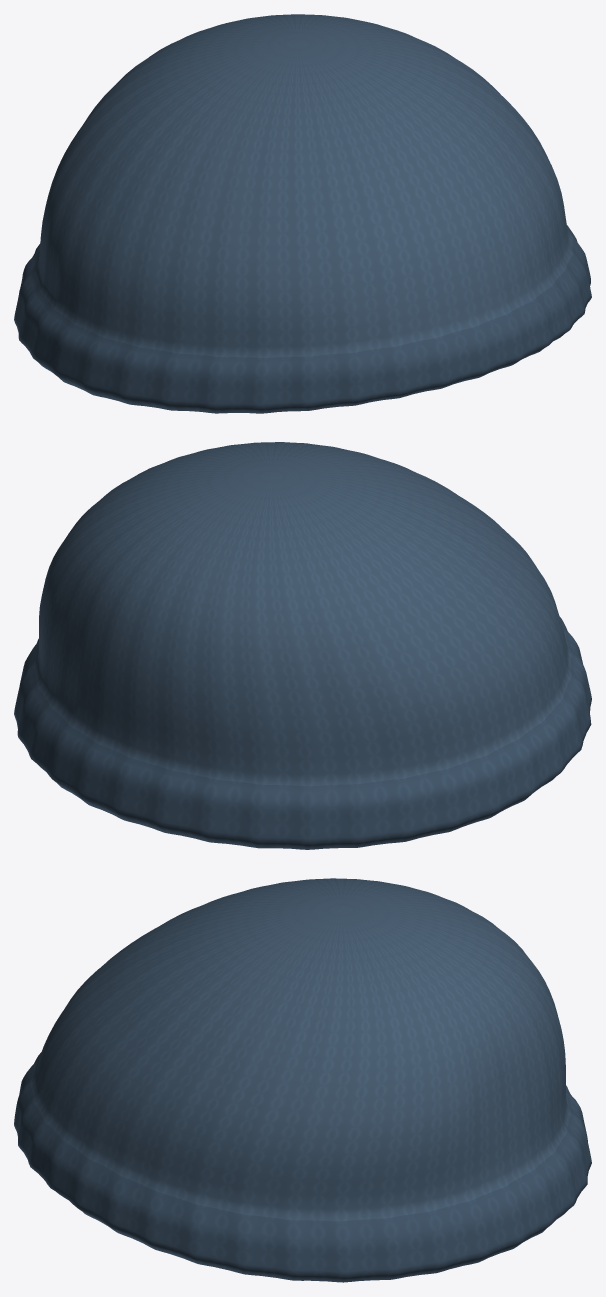
File: beanie-feminine-ponytail.glb
The picture shows the model from 3 angles, top to bottom: view 1: azimuth 30°, elevation 25°; view 2: azimuth 150°, elevation 25°; view 3: azimuth 270°, elevation 25°; orthographic projection.
Visible parts, largest first — view 1: Beanie / fitted knit; view 2: Beanie / fitted knit; view 3: Beanie / fitted knit.
Boxes of the visible parts, box(x1,y1,x2,y2) form: Beanie / fitted knit: box(14, 14, 591, 413); Beanie / fitted knit: box(14, 442, 591, 849); Beanie / fitted knit: box(14, 878, 591, 1282).
Bounding box in the file's own units: 0.804 × 0.4059 × 0.7869.
Materials: 2 (2 with a texture image).
